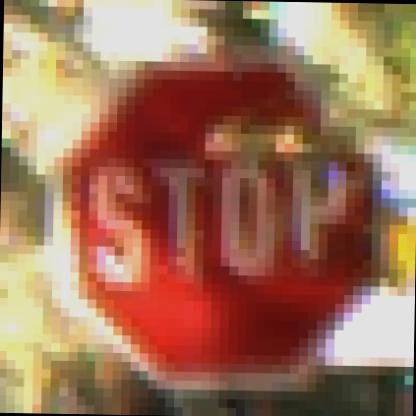stop: (44, 63, 404, 396)
